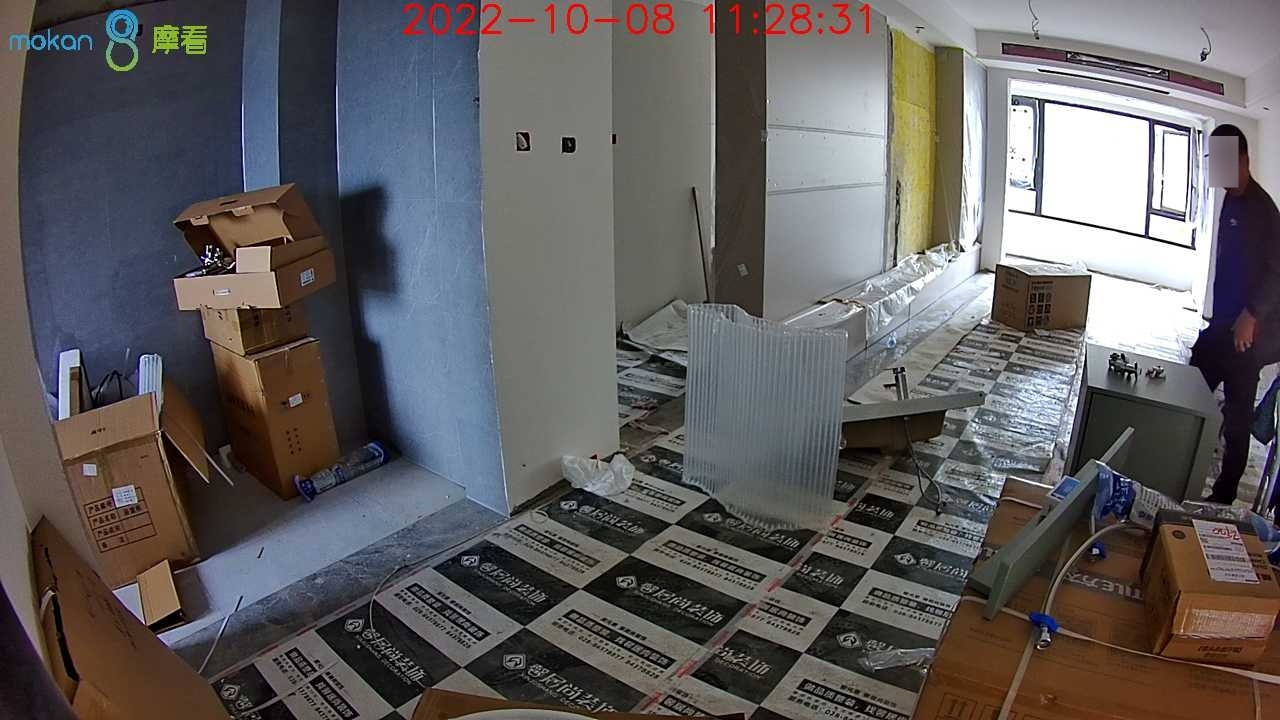people: (1188, 125, 1280, 509)
window: (1005, 90, 1203, 250)
